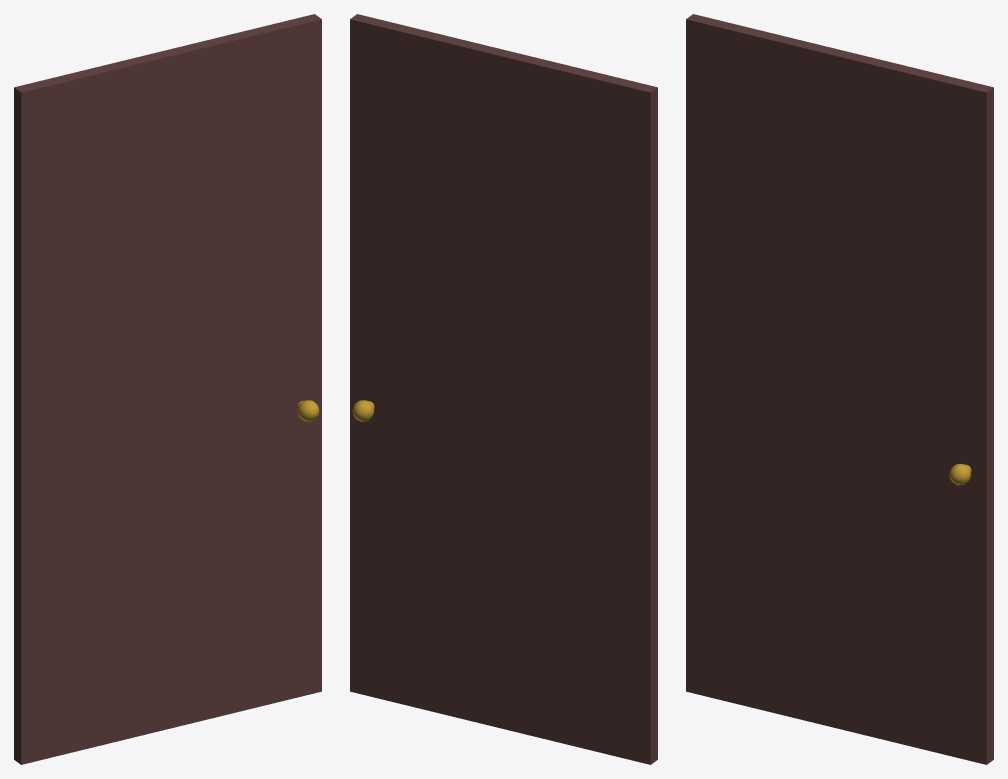
Rendered from door1.obj.
The picture shows the model from 3 angles, left to right: view 1: azimuth 30°, elevation 25°; view 2: azimuth 150°, elevation 25°; view 3: azimuth 330°, elevation 25°; orthographic projection.
Parts seen in each view (by area): view 1: door1; view 2: door1; view 3: door1.
Boxes of the visible parts, <box> form: door1: <box>14,14,321,764</box>; door1: <box>350,14,657,764</box>; door1: <box>686,14,993,764</box>.
Size of the model in its own units: 1.11 by 2.37 by 0.2004.
